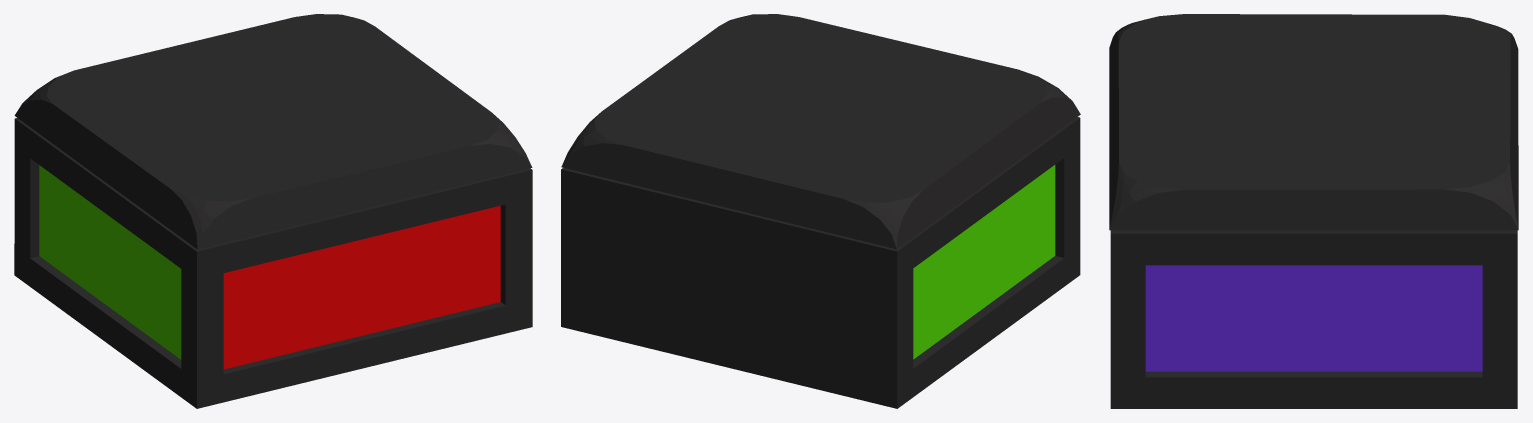
The model's file is caixa_pronta_colorida.glb.
The picture shows the model from 3 angles, left to right: view 1: azimuth 30°, elevation 25°; view 2: azimuth 150°, elevation 25°; view 3: azimuth 270°, elevation 25°; orthographic projection. The views are drawn at different scales.
Parts seen in each view (by area): view 1: Cube; view 2: Cube; view 3: Cube.
Part boxes in pixels (<box>): Cube: <box>14,14,532,408</box>; Cube: <box>561,14,1080,408</box>; Cube: <box>1109,14,1518,408</box>.
Bounding box in the file's own units: 2.45 × 1.35 × 2.32.
